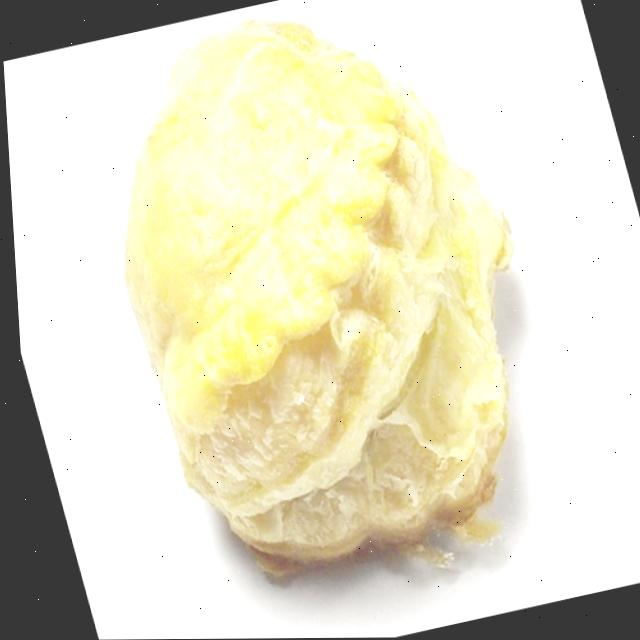炸货点心: (38, 0, 608, 629)
